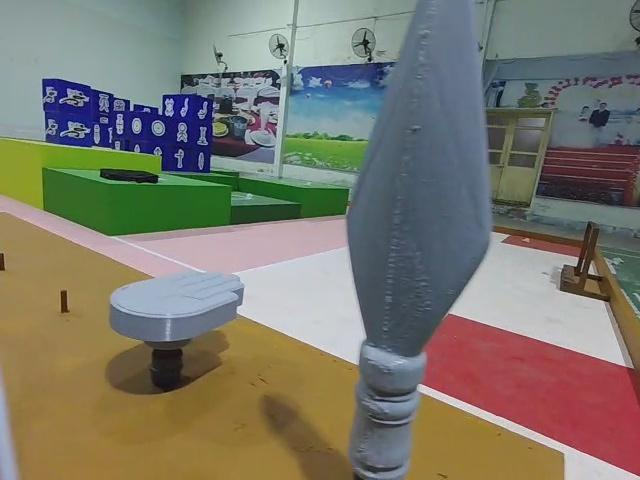Hand: (114, 266, 249, 396)
Sph: (331, 2, 495, 480)
